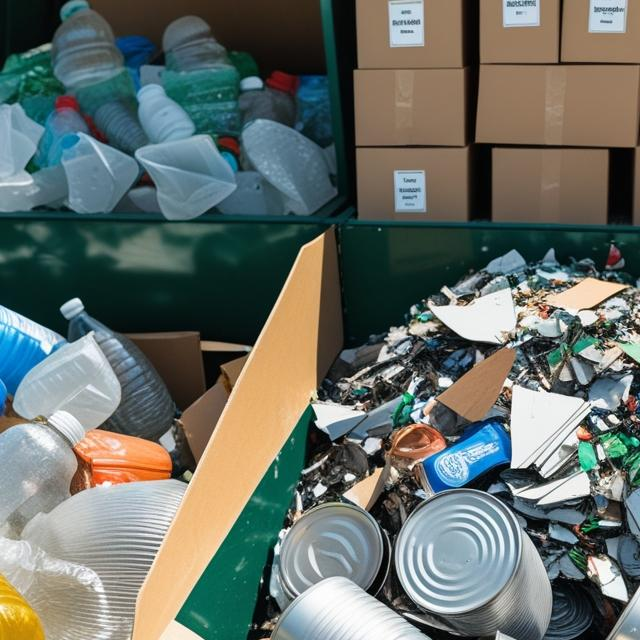metal: (396, 498, 543, 622)
plastic: (146, 13, 243, 152)
